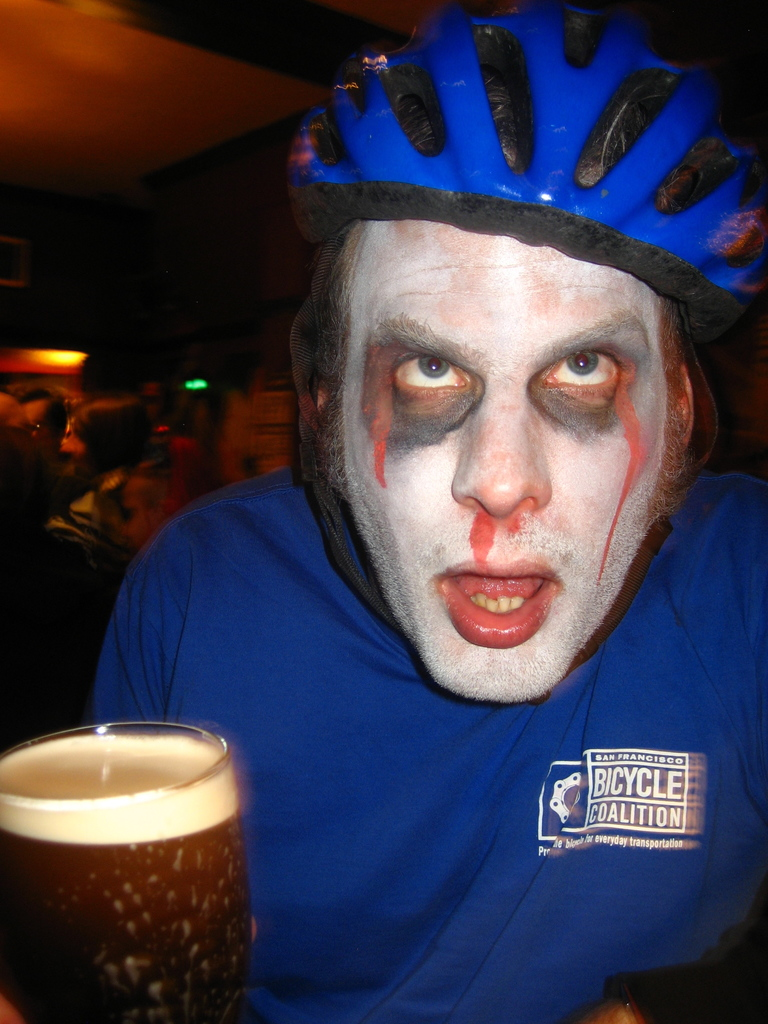Beer: (0, 718, 252, 1022)
